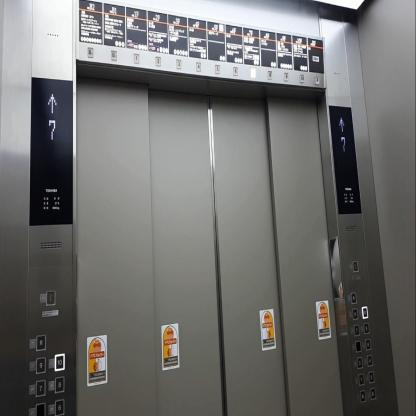1: (358, 372, 365, 386), (133, 51, 139, 64)
10: (53, 352, 66, 372), (361, 306, 369, 318), (298, 73, 304, 84)
2: (367, 370, 375, 384), (155, 54, 161, 66)
3: (356, 356, 363, 369), (175, 58, 182, 70)
4: (366, 354, 373, 367), (196, 60, 202, 72)
5: (214, 63, 220, 74)
6: (55, 398, 64, 416), (364, 337, 372, 351), (232, 65, 238, 76)
7: (35, 379, 45, 397), (353, 323, 360, 337)
8: (54, 374, 65, 394), (362, 322, 370, 334), (267, 70, 272, 80)
9: (36, 356, 46, 374), (352, 307, 358, 320), (284, 71, 288, 82)
B: (370, 387, 376, 400), (360, 390, 366, 402)
B1: (110, 48, 117, 62)
B2: (87, 46, 94, 59)
R: (36, 333, 46, 351), (350, 291, 357, 304), (314, 75, 320, 85)
call: (45, 289, 56, 306), (352, 259, 359, 273)
empty: (35, 402, 45, 415), (250, 66, 256, 79), (355, 340, 361, 352)
led: (28, 71, 74, 231), (328, 99, 364, 220)
